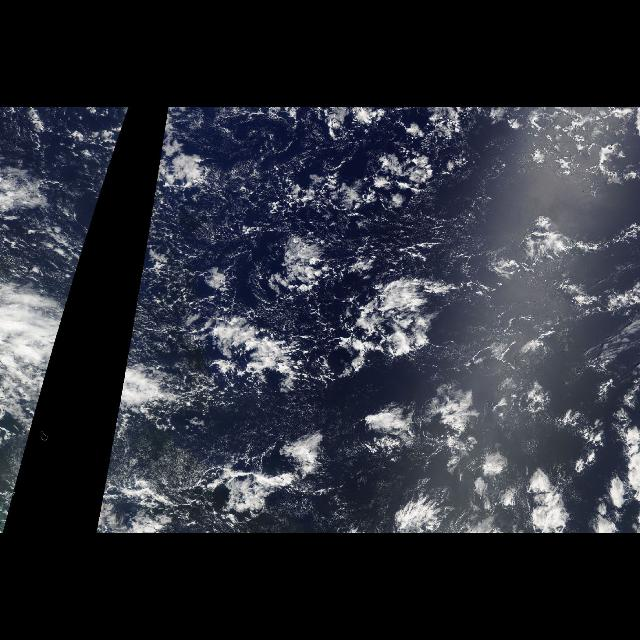Flower: (228, 288, 636, 534)
Gravel: (119, 113, 562, 504), (68, 129, 124, 299)
